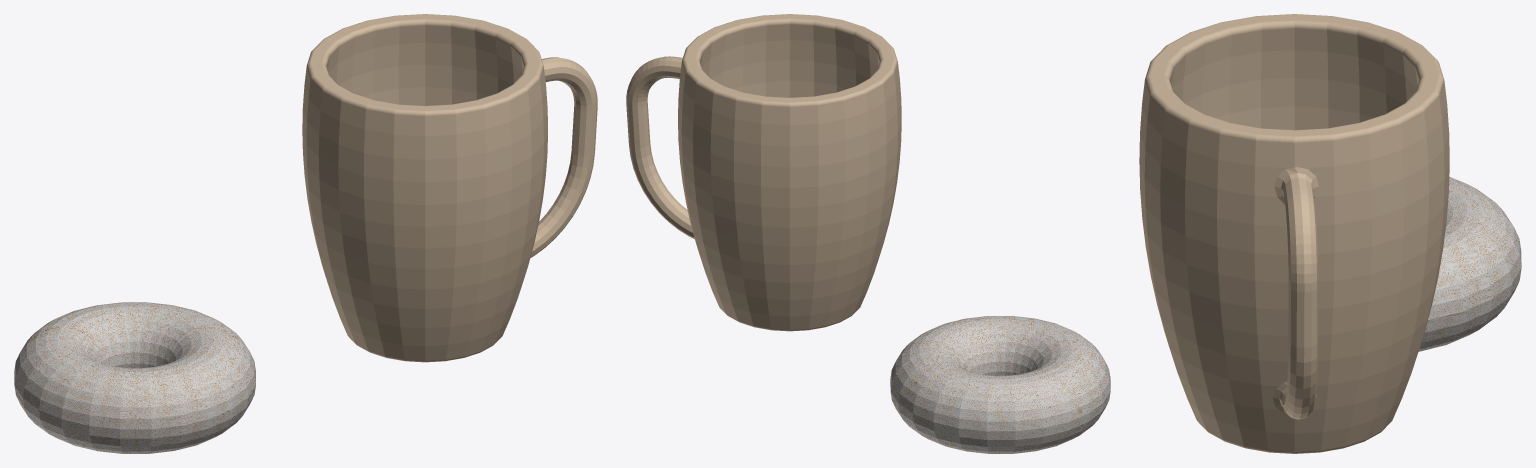
The picture shows the model from 3 angles, left to right: view 1: azimuth 30°, elevation 25°; view 2: azimuth 150°, elevation 25°; view 3: azimuth 270°, elevation 25°; orthographic projection. The views are drawn at different scales.
Parts seen in each view (by area): view 1: mesh1.001_mesh1-geometry, mesh11_mesh11-geometry; view 2: mesh1.001_mesh1-geometry, mesh11_mesh11-geometry; view 3: mesh1.001_mesh1-geometry, mesh11_mesh11-geometry.
Boxes of the visible parts, box(x1,y1,x2,y2) form: mesh1.001_mesh1-geometry: box(302, 14, 597, 362); mesh11_mesh11-geometry: box(14, 302, 255, 453); mesh1.001_mesh1-geometry: box(626, 14, 901, 331); mesh11_mesh11-geometry: box(890, 316, 1110, 453); mesh1.001_mesh1-geometry: box(1139, 14, 1449, 453); mesh11_mesh11-geometry: box(1418, 176, 1521, 351).
Size of the model in its own units: 0.8054 by 0.4454 by 0.391.
